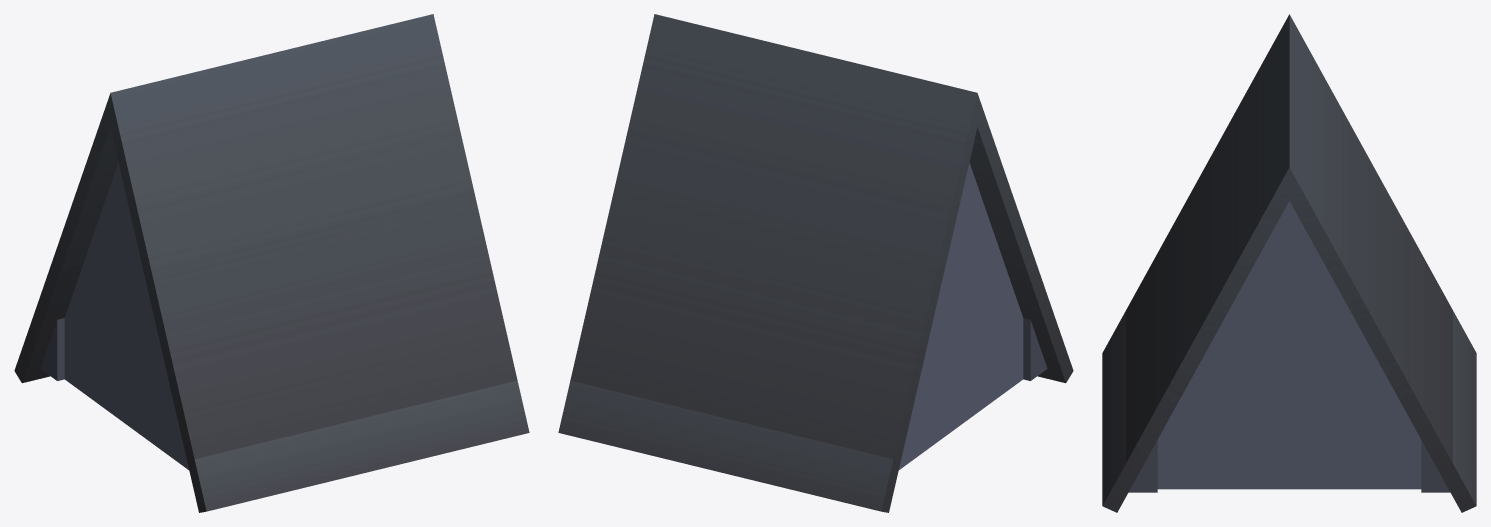
Rendered from roof-high-gable.glb.
The picture shows the model from 3 angles, left to right: view 1: azimuth 30°, elevation 25°; view 2: azimuth 150°, elevation 25°; view 3: azimuth 270°, elevation 25°; orthographic projection. The views are drawn at different scales.
Parts seen in each view (by area): view 1: roof-high-gable; view 2: roof-high-gable; view 3: roof-high-gable.
Boxes of the visible parts, x1,y1,x2,y2 form: roof-high-gable: (14,14,529,512); roof-high-gable: (558,14,1073,512); roof-high-gable: (1102,14,1476,512).
Size of the model in its own units: 1.1 by 1.16 by 1.13.
Materials: 1 (1 with a texture image).
